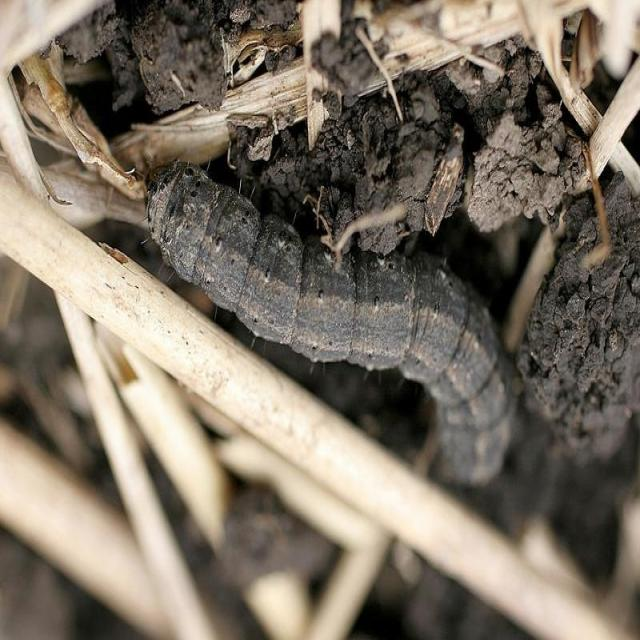black cutworm: (135, 167, 518, 494)
